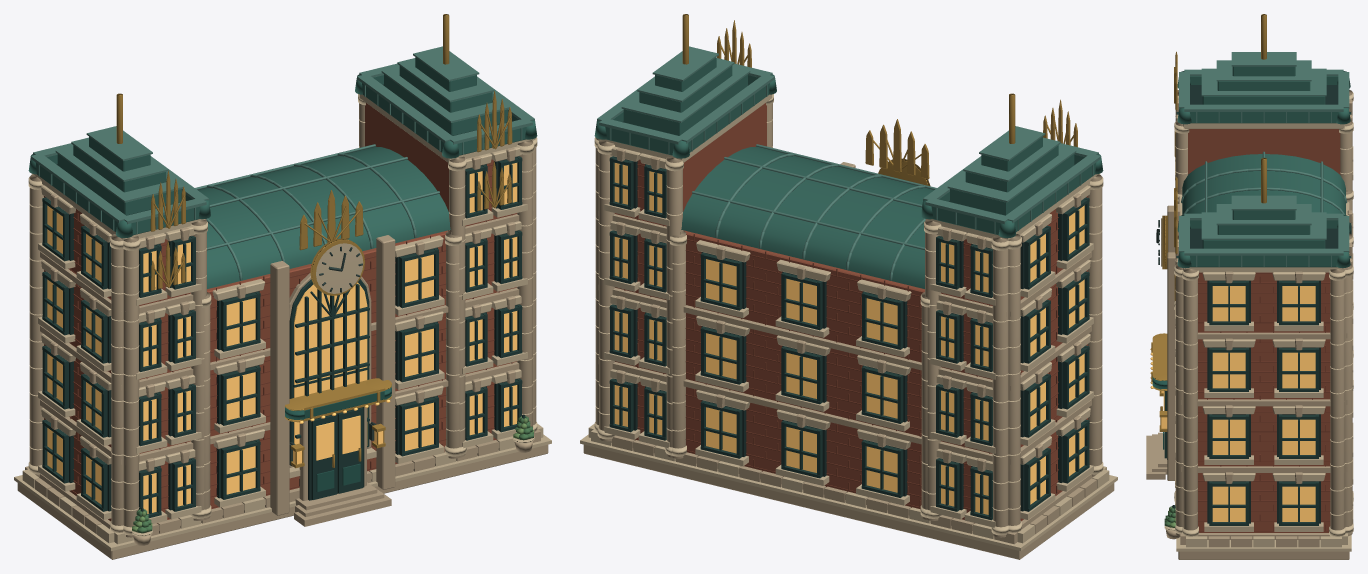
3 renders of one model, left to right at view 1: azimuth 30°, elevation 25°; view 2: azimuth 150°, elevation 25°; view 3: azimuth 270°, elevation 25°, orthographic. The views are drawn at different scales.
Parts seen in each view (by area): view 1: expansion_finance_3_geometry; view 2: expansion_finance_3_geometry; view 3: expansion_finance_3_geometry.
Part boxes in pixels (bbox=[...]): expansion_finance_3_geometry: bbox=[14, 14, 551, 559]; expansion_finance_3_geometry: bbox=[580, 14, 1117, 559]; expansion_finance_3_geometry: bbox=[1146, 14, 1353, 559].
Size of the model in its own units: 2.26 by 2.05 by 1.02.
